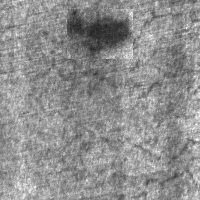crazing: (90, 10, 179, 101), (59, 133, 198, 186)
patches: (67, 9, 133, 59)
